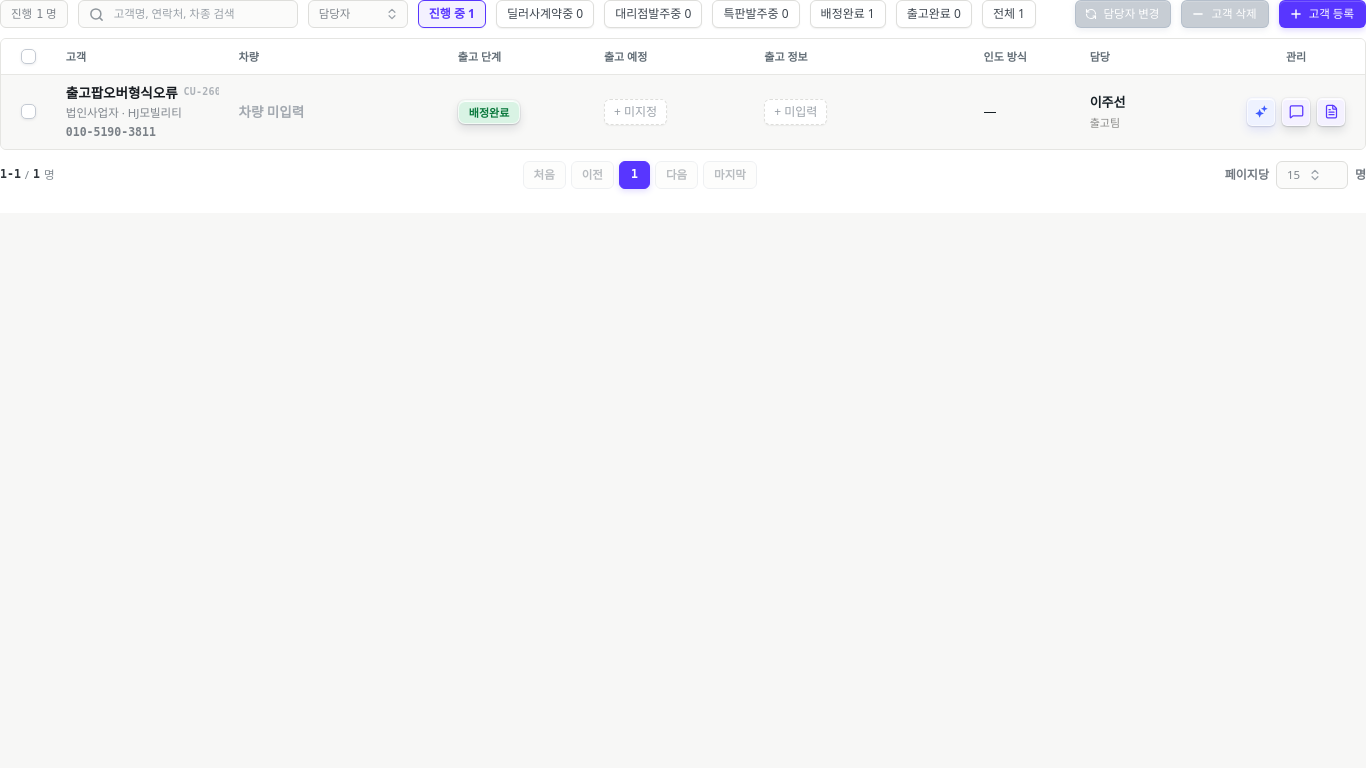
Scenario: 출고 관리(delivery) 콘솔 › 날짜 텍스트 형식이 틀리면 저장을 막고 안내 문구를 보여준다(년-월-일 고정, 로케일 무관 — 2026-07-19)
Click the button with aria-label "출고 예정 입력:".
click(636, 112)  # box [604,99,667,125]
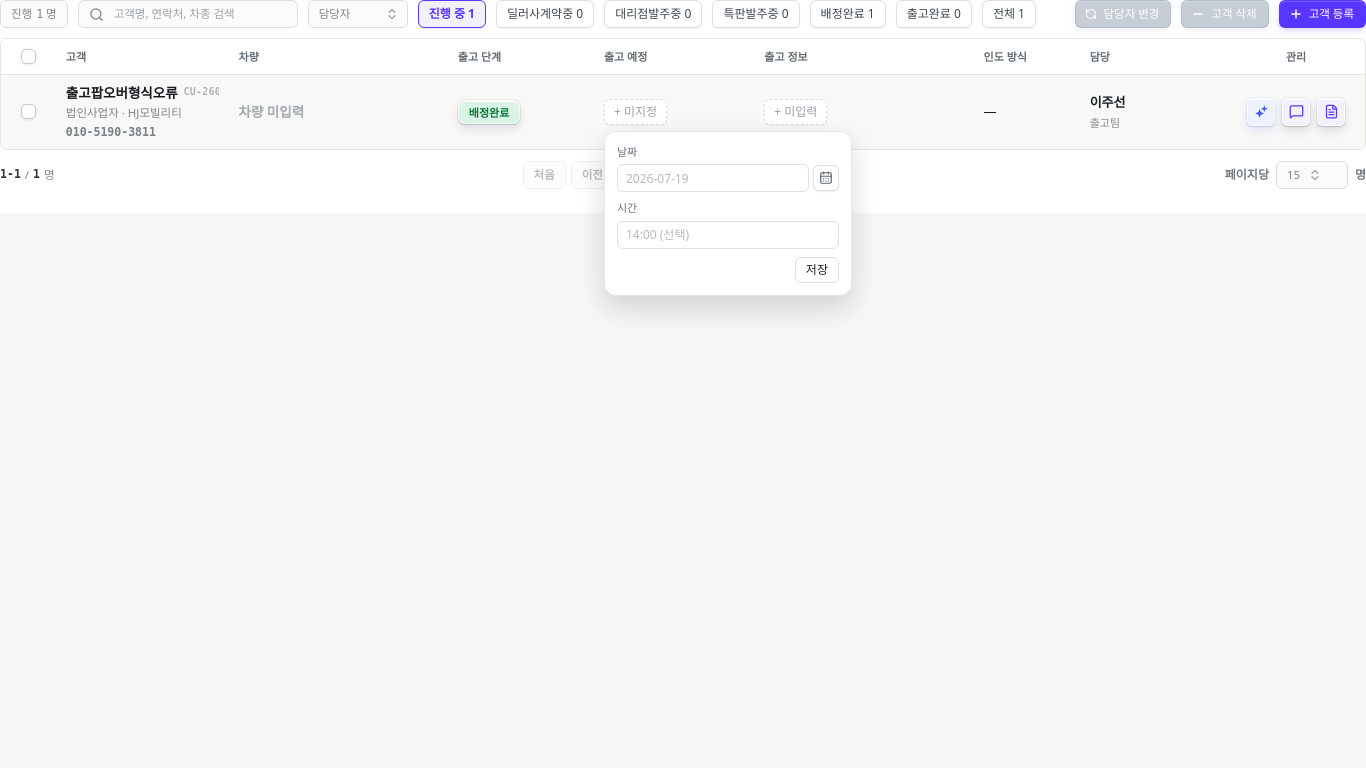
Type "0724" into the field labelled "날짜".
click(713, 178); type("0724")  # box [617,164,809,192]
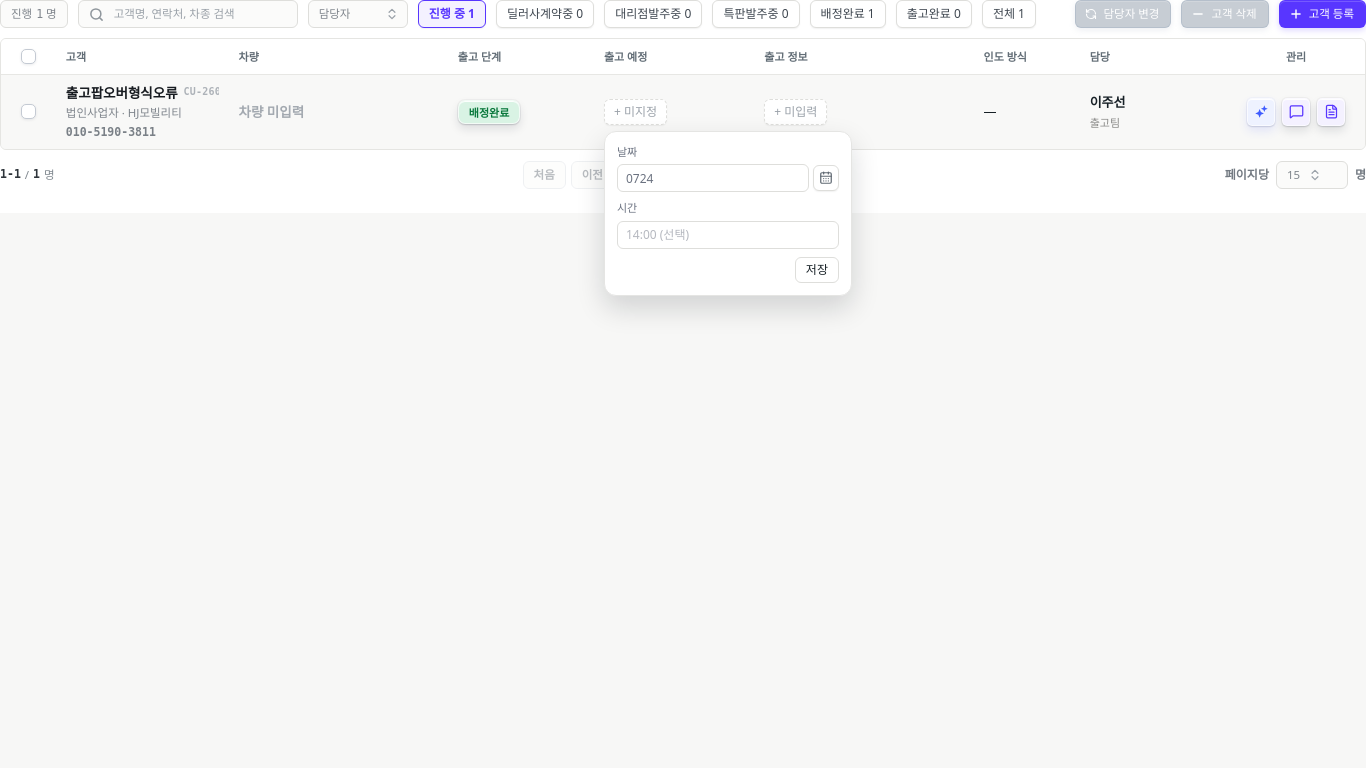
Click the button "저장".
click(817, 270)  # box [795,257,839,283]
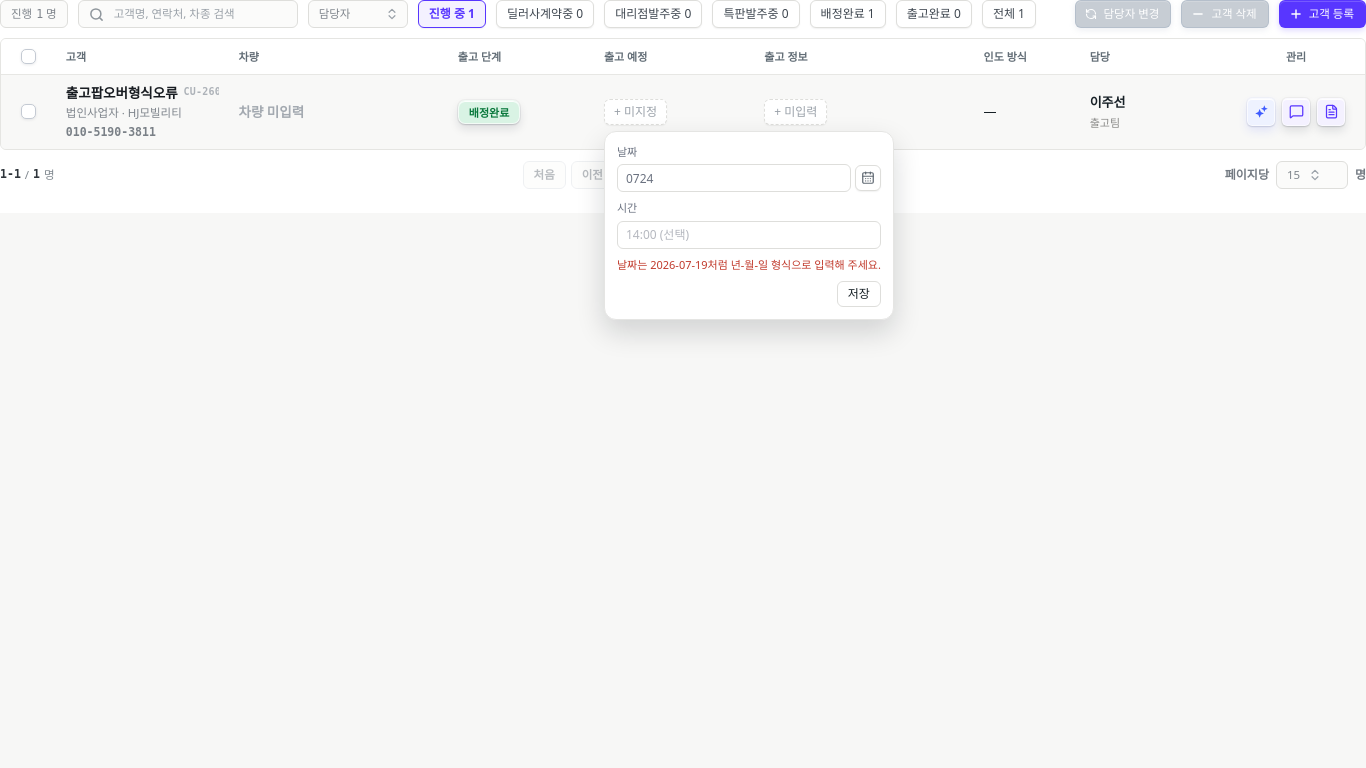
expect the message shows "년-월-일": met, box [617,257,881,272]
